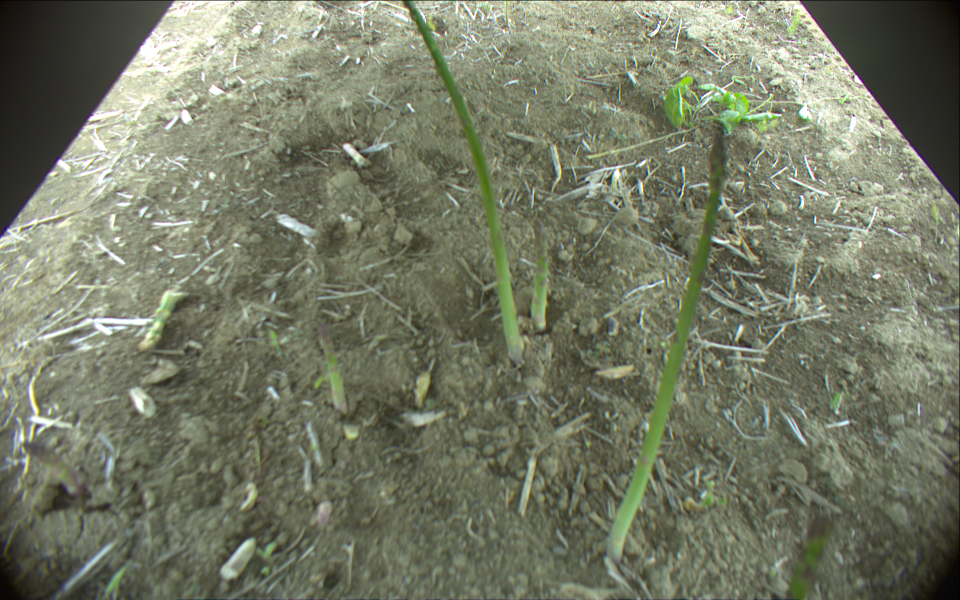aspa: (605, 131, 727, 562), (400, 1, 524, 362), (317, 324, 352, 421), (526, 216, 549, 334), (142, 287, 184, 349)
